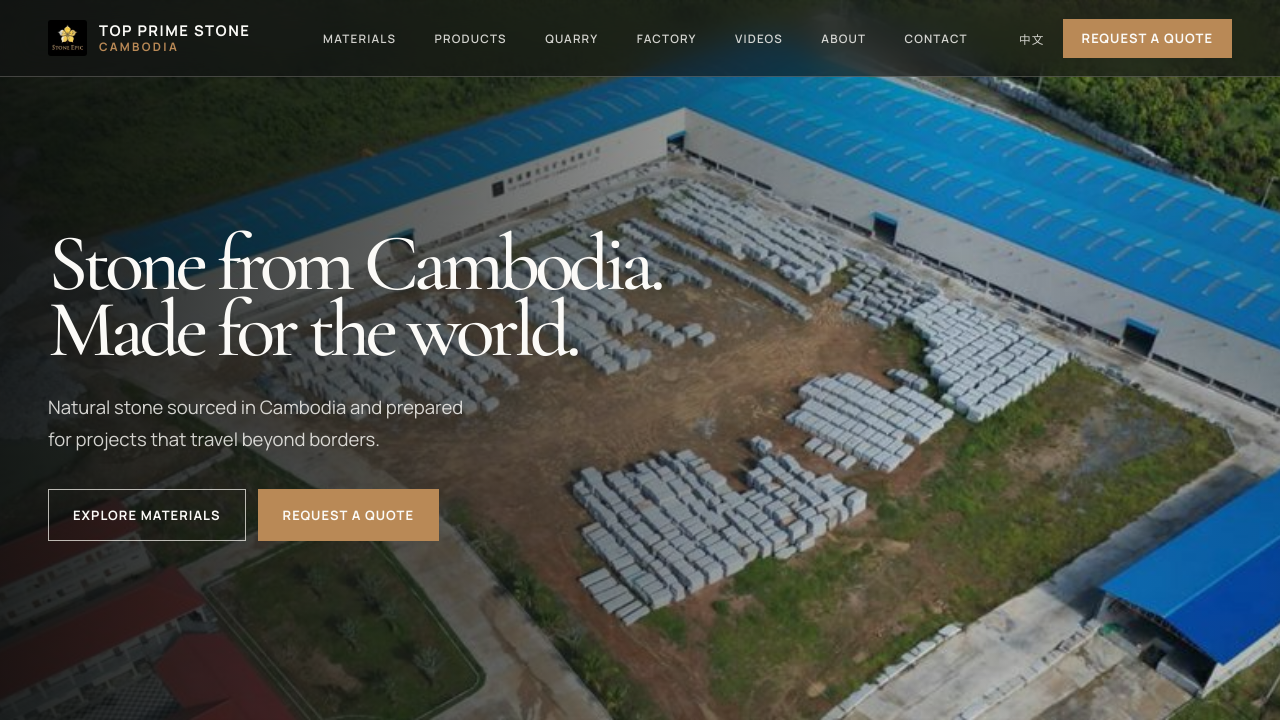
Test: App interactions › switches all hero copy to Chinese
What coordinates should you click on to do the following:
click the button "中文"
I would click on:
 (1032, 38)
Its box is [1019,22,1044,54].
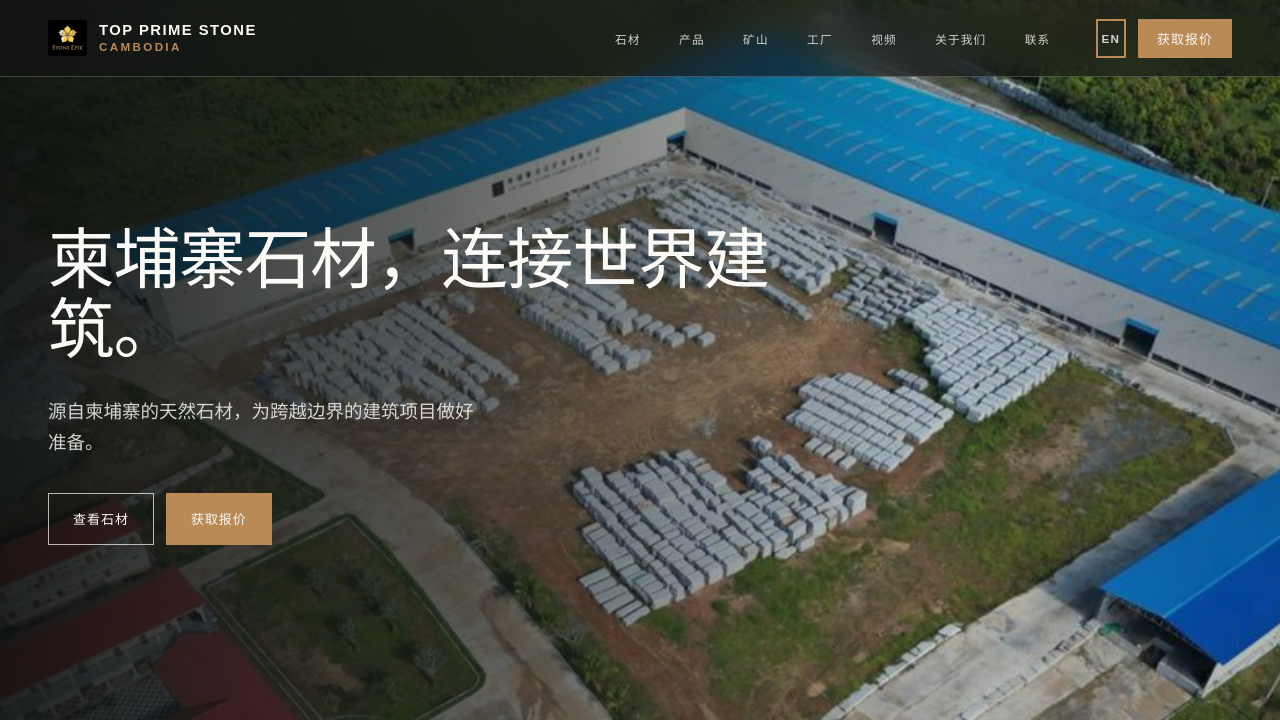
Check: the heading "柬埔寨石材，连接世界建筑。" is shown, box [48,226,818,366]
Check: the link "获取报价" is shown, box [1138,18,1232,58]
